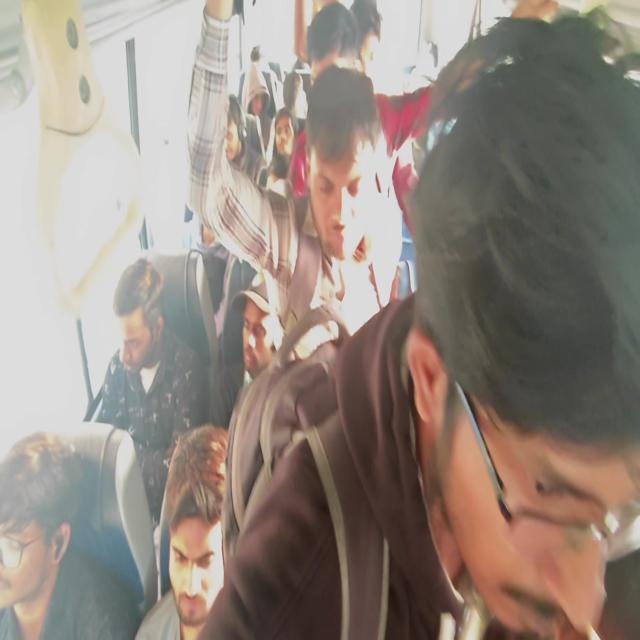person: (411, 5, 638, 632), (0, 432, 96, 630), (304, 65, 382, 268), (168, 438, 232, 629), (111, 256, 176, 374), (304, 2, 358, 82), (236, 277, 276, 383), (350, 1, 382, 72), (223, 94, 249, 170), (247, 71, 270, 117), (273, 106, 295, 143)
